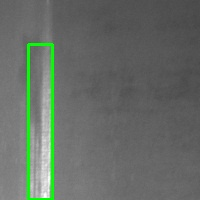scratches: (28, 44, 52, 199)
